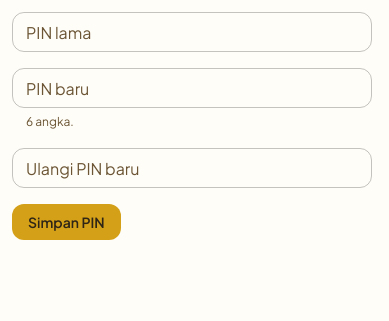
ApprovalPinForm (spec PIN P8) › mengganti: PIN lama wajib; ulangan yang beda ditolak sebelum dikirim; galat server tampil
Type "000000" into the password field labelled "PIN lama".
click(192, 32); type("000000")  # box 12,12 -> 372,52
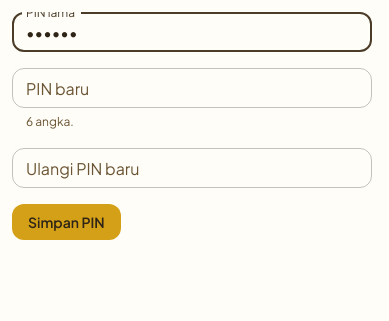
Type "246802" into the password field labelled "PIN baru".
click(192, 88); type("246802")  # box 12,68 -> 372,108
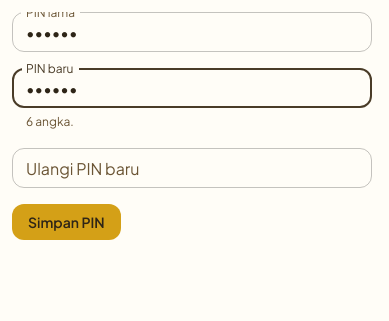
Type "246800" into the password field labelled "Ulangi PIN baru".
click(192, 168); type("246800")  # box 12,148 -> 372,188
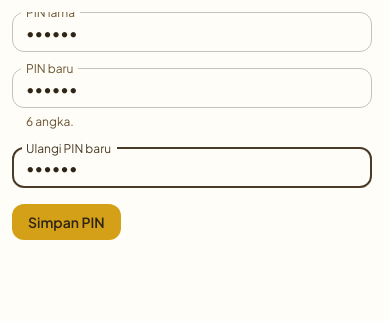
Click the button "Simpan PIN".
click(66, 222)  # box 12,204 -> 121,240
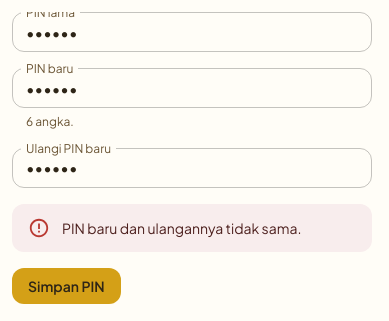
expect the message reads "PIN baru dan ulangannya tidak sama.": met, box 62,219 -> 302,237
Type "246802" into the password field labelled "Ulangi PIN baru".
click(192, 168); type("246802")  # box 12,148 -> 372,188
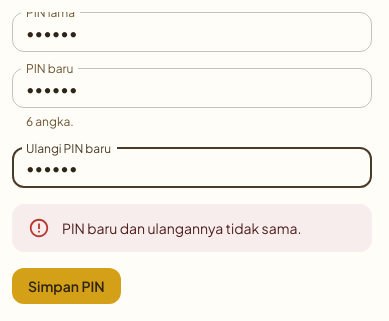
Click the button "Simpan PIN".
click(66, 286)  # box 12,268 -> 121,304
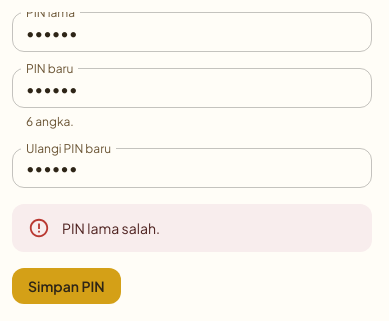
expect the message reads "PIN lama salah.": met, box 62,219 -> 160,237
